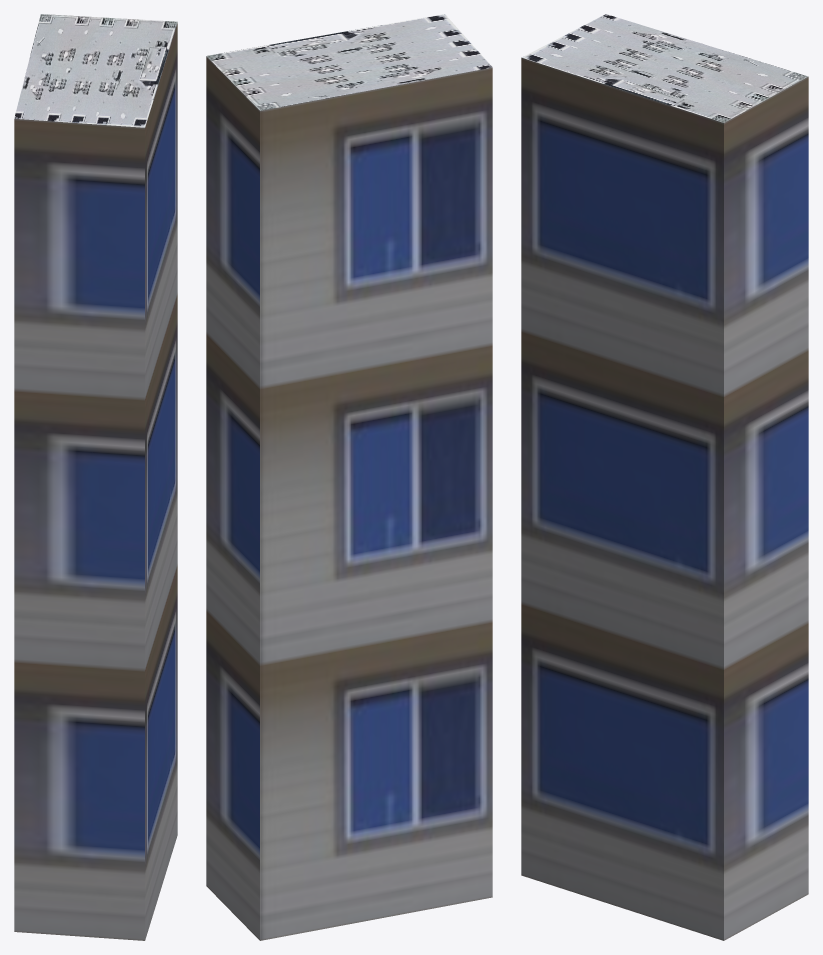
File: ResTex__5208.fbx
3 views of the same model, side by side, from view 1: azimuth 30°, elevation 25°; view 2: azimuth 150°, elevation 25°; view 3: azimuth 270°, elevation 25° (orthographic). The views are drawn at different scales.
Visible parts, largest first — view 1: CityEngineMaterial_23_m, CityEngineMaterial_4_m; view 2: CityEngineMaterial_23_m, CityEngineMaterial_4_m; view 3: CityEngineMaterial_23_m, CityEngineMaterial_4_m.
Boxes of the visible parts, bbox=[...] form: CityEngineMaterial_23_m: bbox=[14, 23, 177, 940]; CityEngineMaterial_4_m: bbox=[14, 14, 177, 127]; CityEngineMaterial_23_m: bbox=[206, 56, 492, 940]; CityEngineMaterial_4_m: bbox=[206, 14, 492, 110]; CityEngineMaterial_23_m: bbox=[521, 57, 808, 940]; CityEngineMaterial_4_m: bbox=[522, 14, 807, 122].
Size of the model in its own units: 2.57 by 9 by 2.86.
2 materials, 2 textured.
